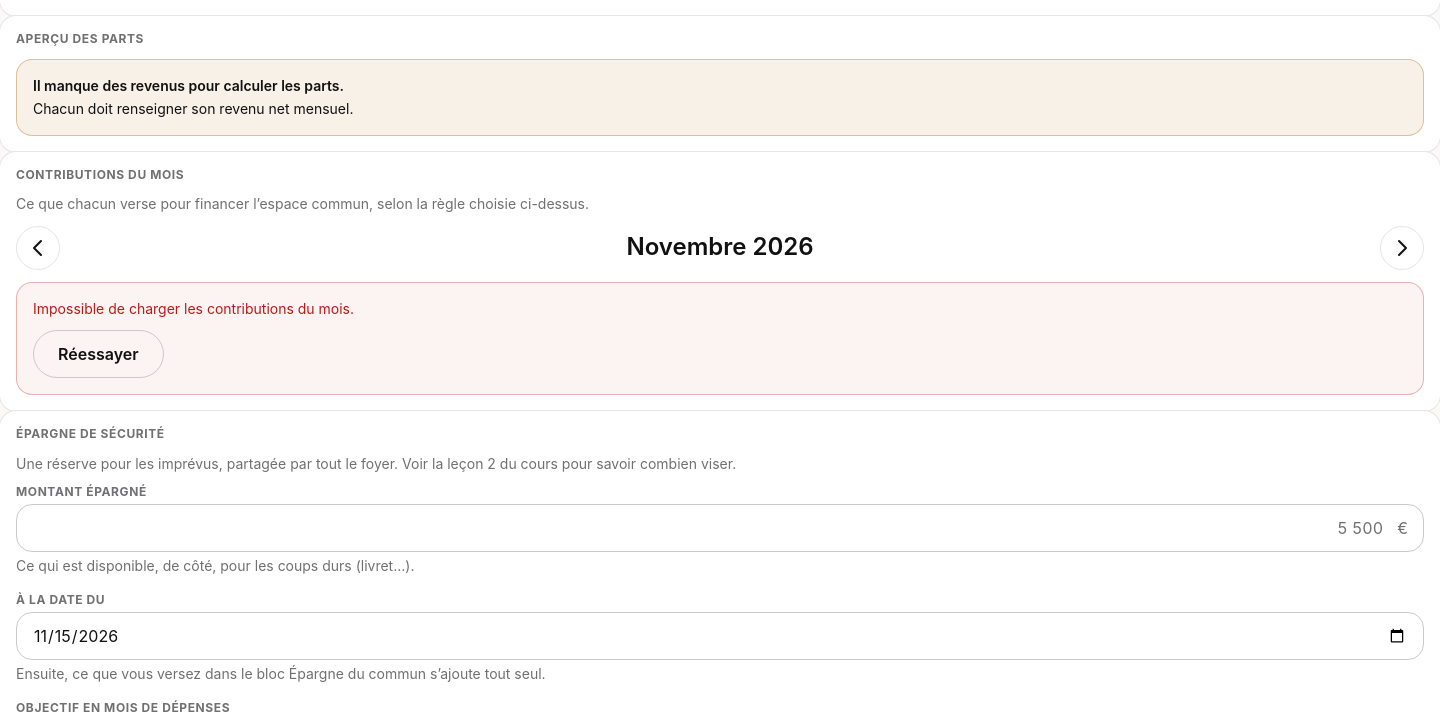
Test: FoyerPage « Contributions du mois » › status › offers a retry when loading fails
The image size is (1440, 720).
(page scrolled)
Expected: the message "Impossible de charger les contributions du mois. Réessayer" is shown, x1=16 y1=282 x2=1424 y2=395
Click the button "Réessayer" at (98, 354), box x1=33 y1=330 x2=164 y2=378
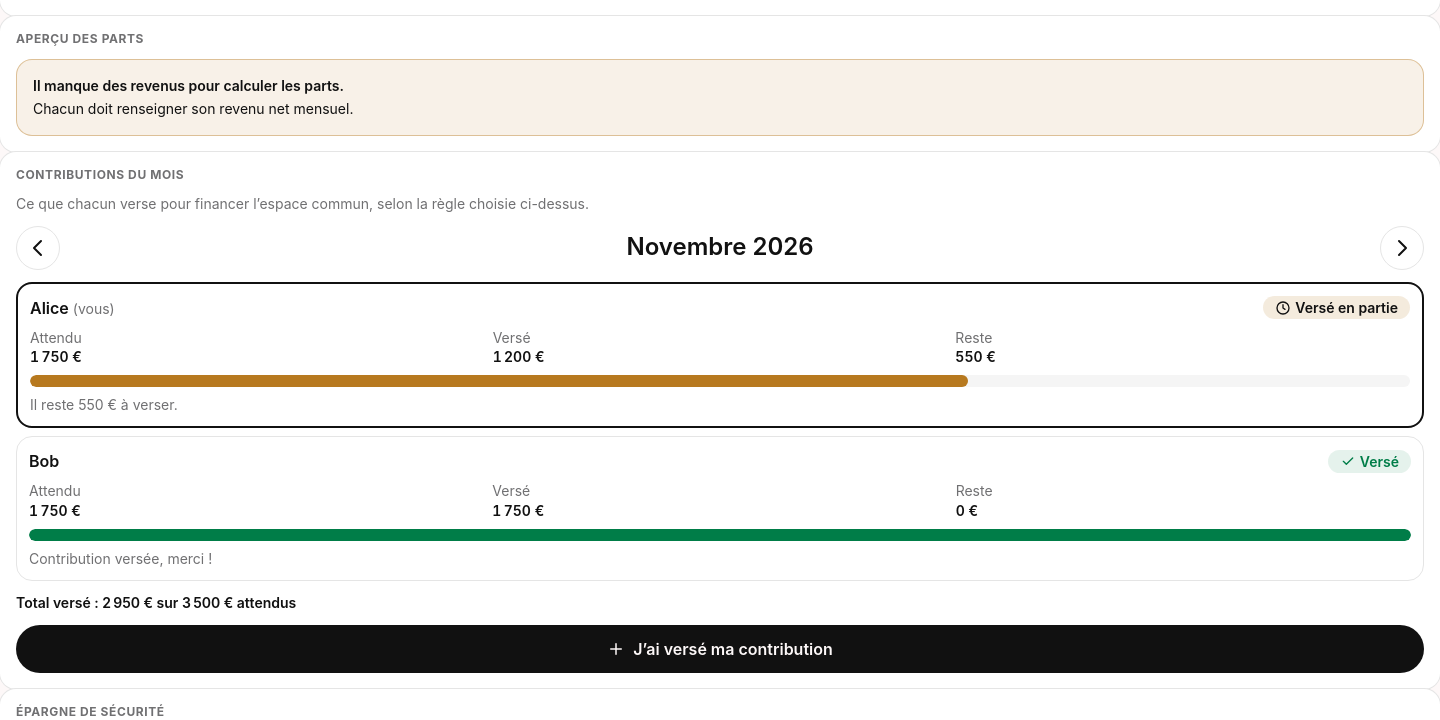
Expected: the number of list items with test id "contribution-member" is 2, x1=16 y1=282 x2=1424 y2=428; x1=16 y1=436 x2=1424 y2=581
